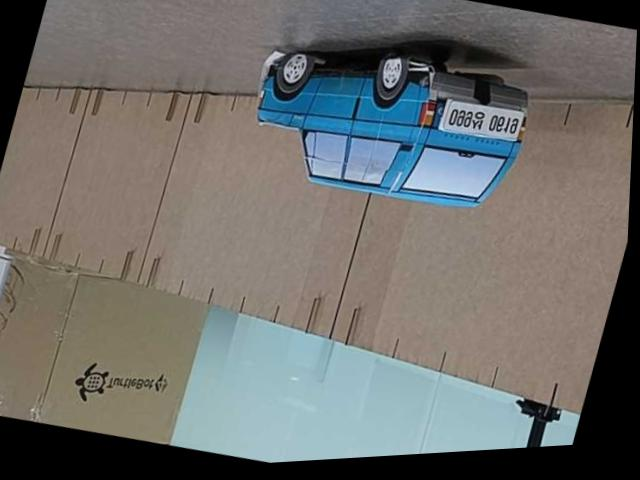car: (234, 17, 541, 231)
id: (436, 93, 526, 151)
